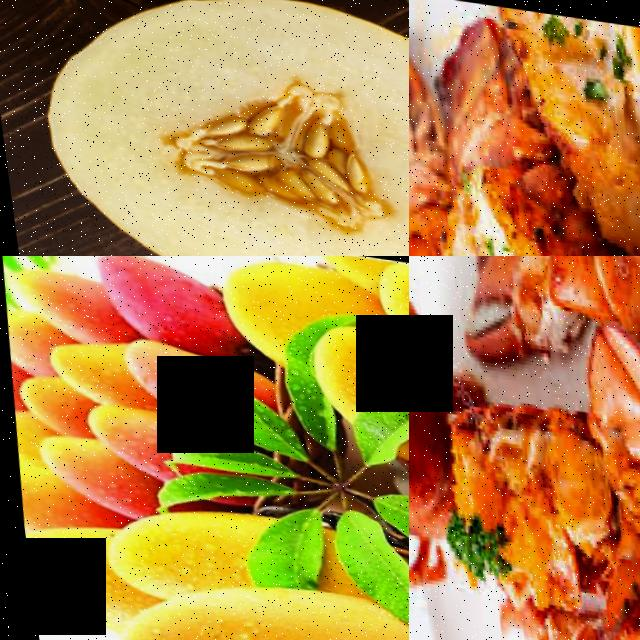lobster tails: (409, 24, 628, 256), (488, 310, 640, 636), (409, 16, 468, 256)
mango: (101, 560, 409, 640), (87, 487, 254, 599), (93, 256, 222, 340), (25, 430, 137, 512), (77, 399, 183, 471), (118, 330, 198, 410), (370, 256, 409, 364)
melon: (6, 0, 409, 256)
